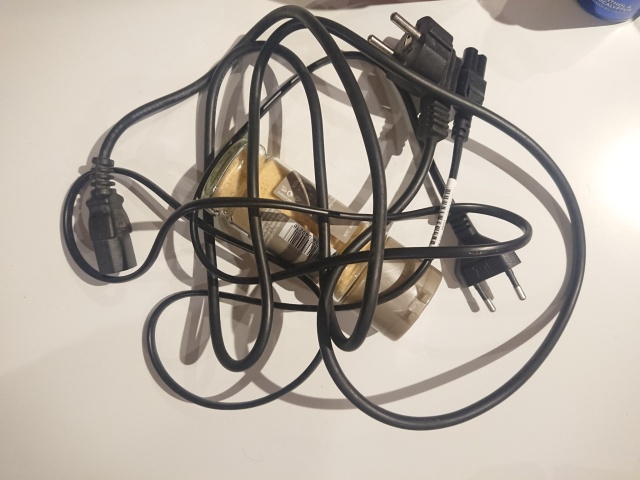Kotanyi Garlic Granules 70g: (197, 135, 446, 344)
